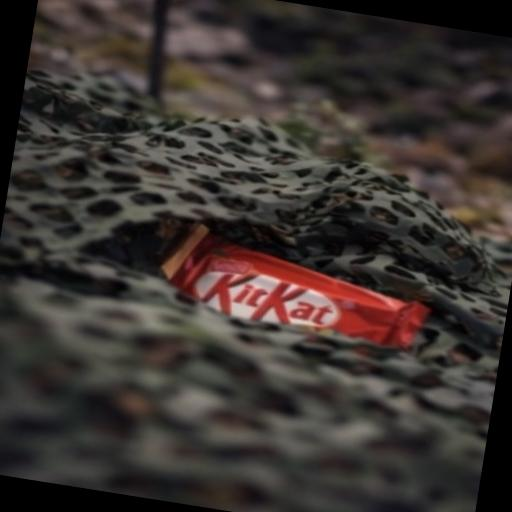kitkat: (82, 170, 508, 430)
